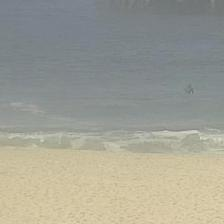surfer: (184, 83, 195, 94)
